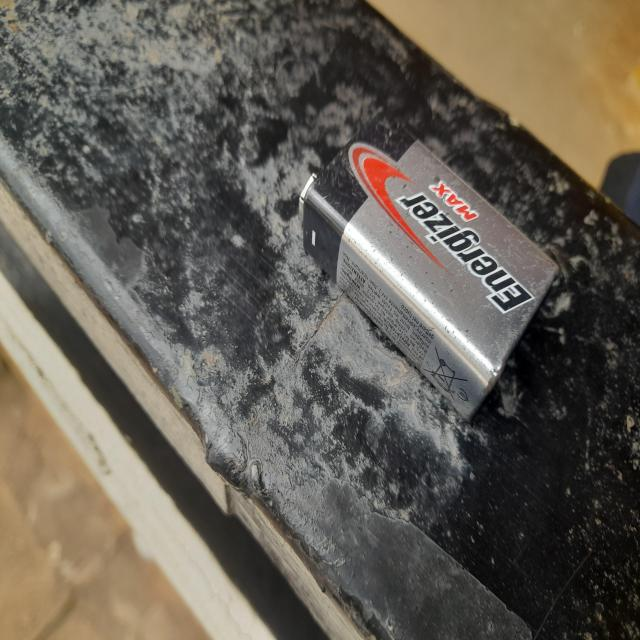9V: (75, 209, 348, 553)
